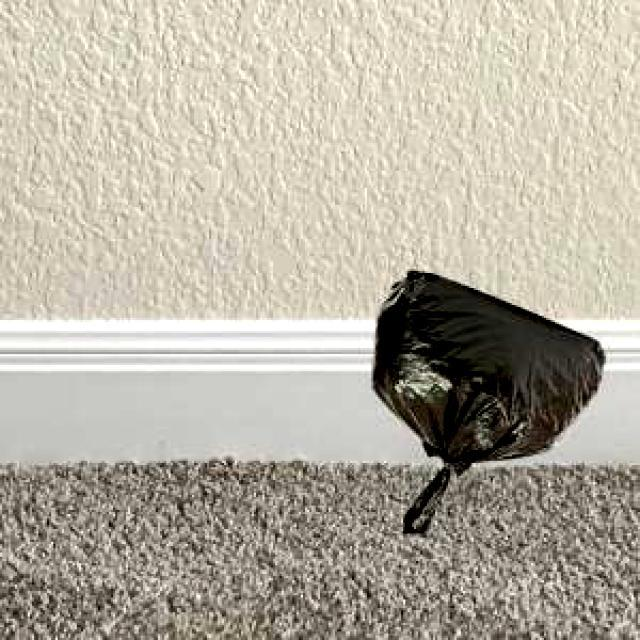Garbage_Bag: (370, 268, 601, 530)
